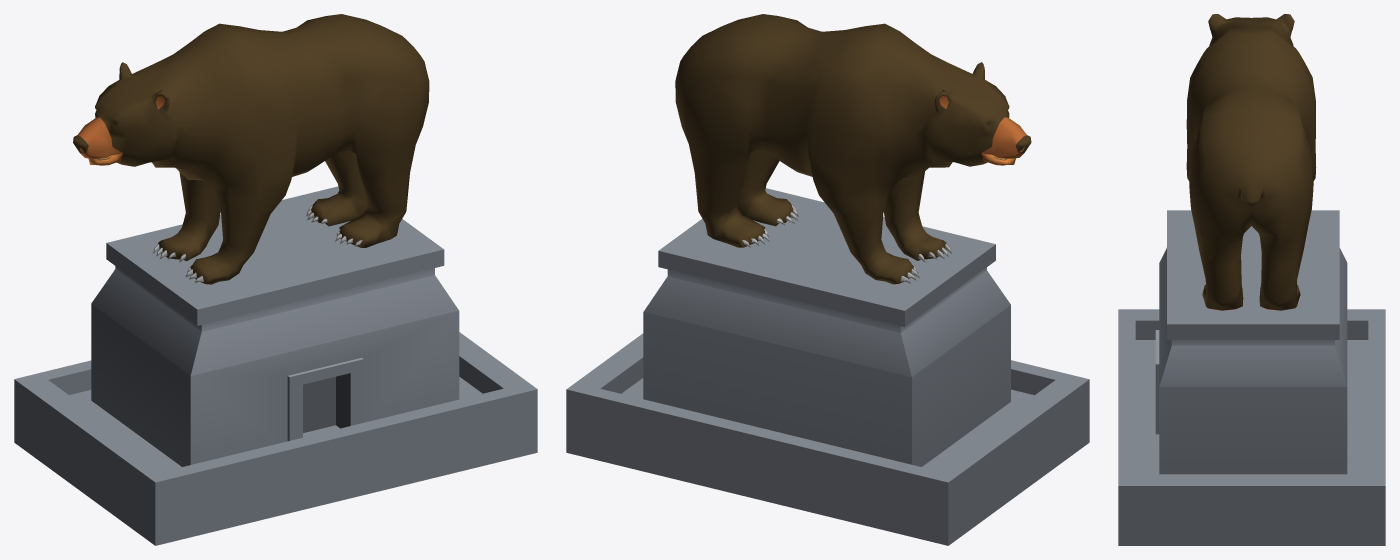
Rendered from The_Grizzly_Bear.fbx.
The picture shows the model from 3 angles, left to right: view 1: azimuth 30°, elevation 25°; view 2: azimuth 150°, elevation 25°; view 3: azimuth 270°, elevation 25°; orthographic projection. The views are drawn at different scales.
Visible parts, largest first — view 1: The_Grizzly_Bear; view 2: The_Grizzly_Bear; view 3: The_Grizzly_Bear.
Part boxes in pixels (<box>): The_Grizzly_Bear: <box>14,14,537,545</box>; The_Grizzly_Bear: <box>566,14,1089,545</box>; The_Grizzly_Bear: <box>1118,14,1385,545</box>.
Bounding box in the file's own units: 550 × 568 × 341.
